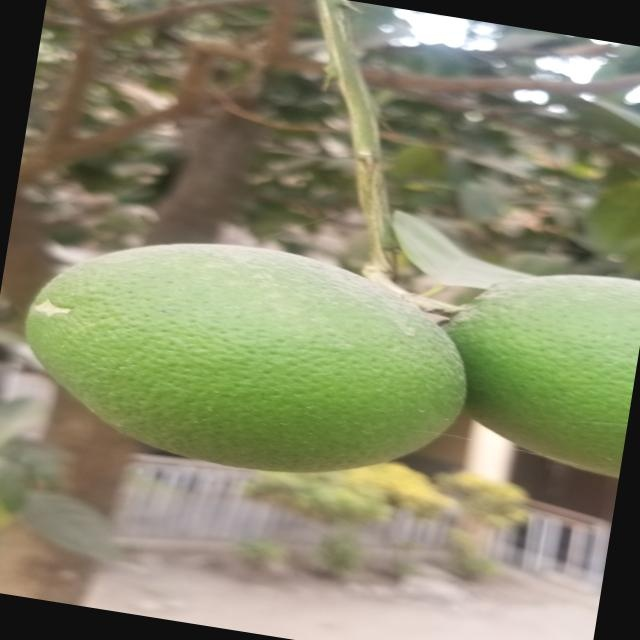agrume: (27, 214, 485, 502), (431, 252, 640, 479)
